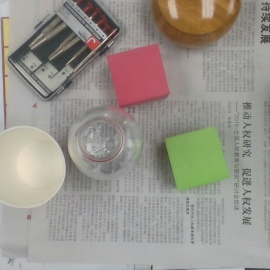bottle: (65, 105, 145, 183)
chess: (151, 2, 243, 46)
cup: (2, 127, 65, 208)
